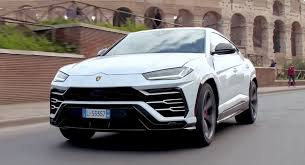Lamborghini: (52, 30, 238, 143)
